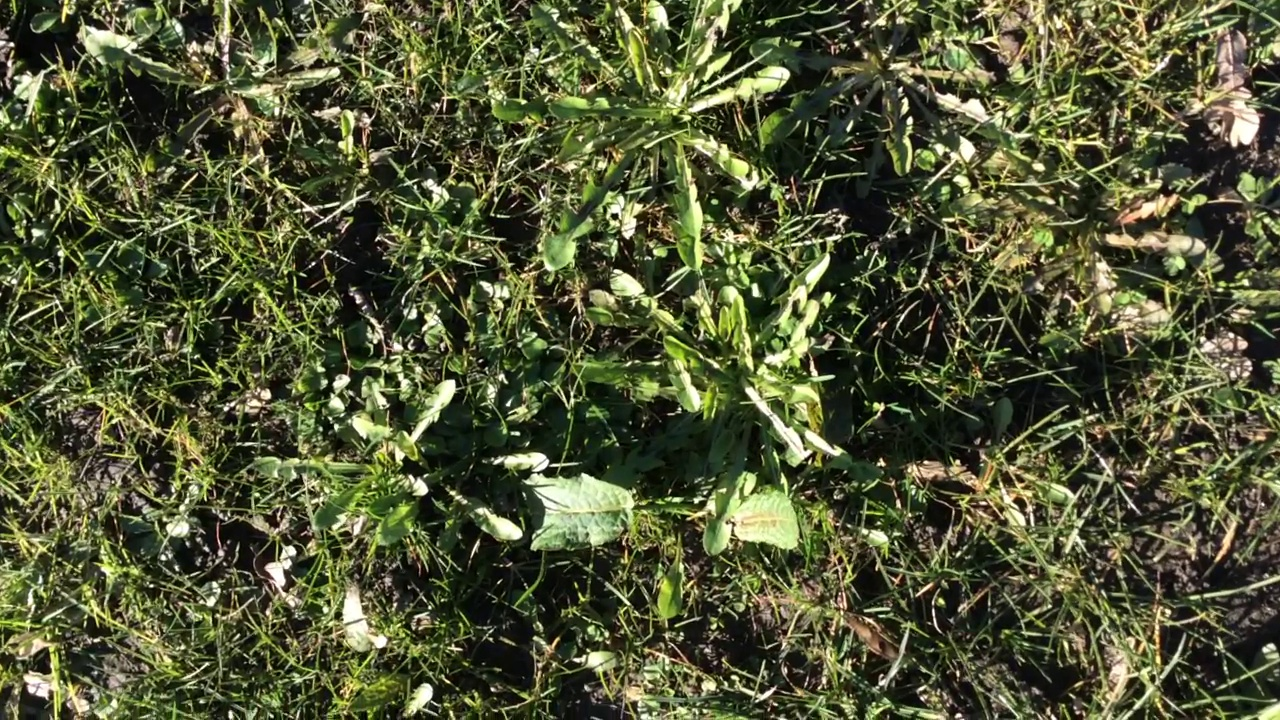rumex: (490, 475, 634, 552), (729, 493, 801, 551)
